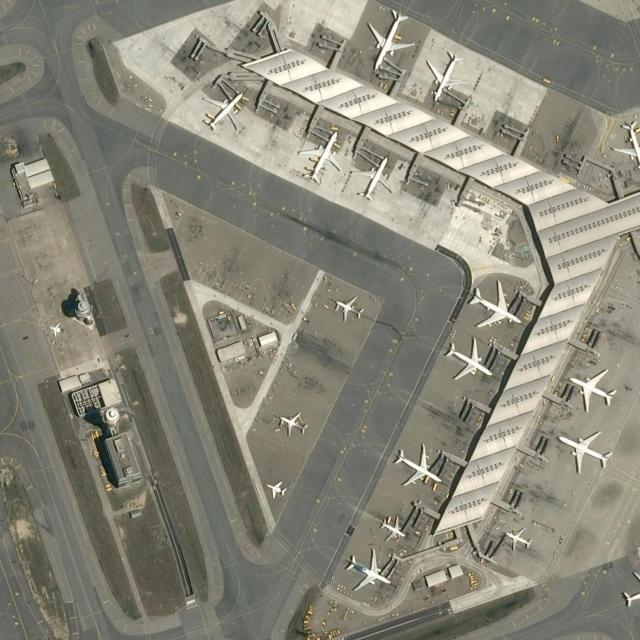Aircraft: (363, 4, 417, 70), (365, 7, 416, 72), (464, 275, 524, 330), (296, 125, 344, 187), (466, 279, 522, 329), (554, 426, 613, 473), (439, 334, 495, 382), (389, 442, 445, 490), (422, 47, 468, 104), (555, 428, 612, 474), (340, 544, 394, 592), (564, 365, 618, 413), (297, 128, 343, 184), (424, 47, 468, 102), (390, 442, 442, 488), (567, 366, 618, 412), (197, 87, 246, 134), (443, 336, 493, 382), (342, 548, 390, 592), (352, 152, 394, 202), (353, 154, 395, 202), (200, 89, 245, 133), (608, 118, 640, 173), (610, 119, 640, 173), (616, 566, 640, 617), (370, 513, 410, 543), (271, 409, 309, 435), (619, 570, 640, 617), (332, 294, 366, 323), (333, 294, 365, 322), (277, 410, 309, 437), (500, 526, 534, 550), (377, 515, 407, 542), (503, 526, 533, 552), (261, 477, 289, 499), (264, 478, 288, 498), (48, 322, 64, 337)
